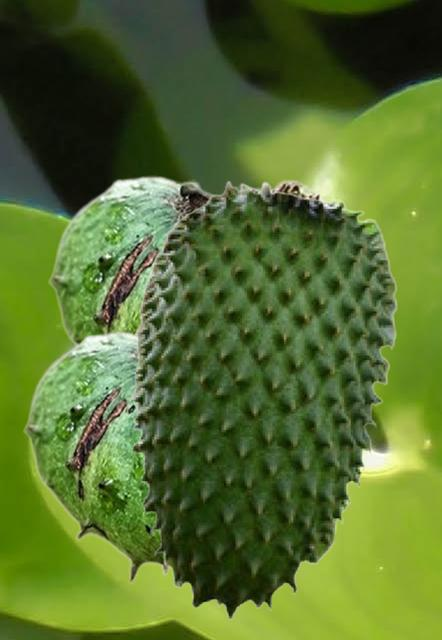guyabano: (130, 180, 397, 619), (48, 175, 330, 346), (23, 331, 169, 583)
